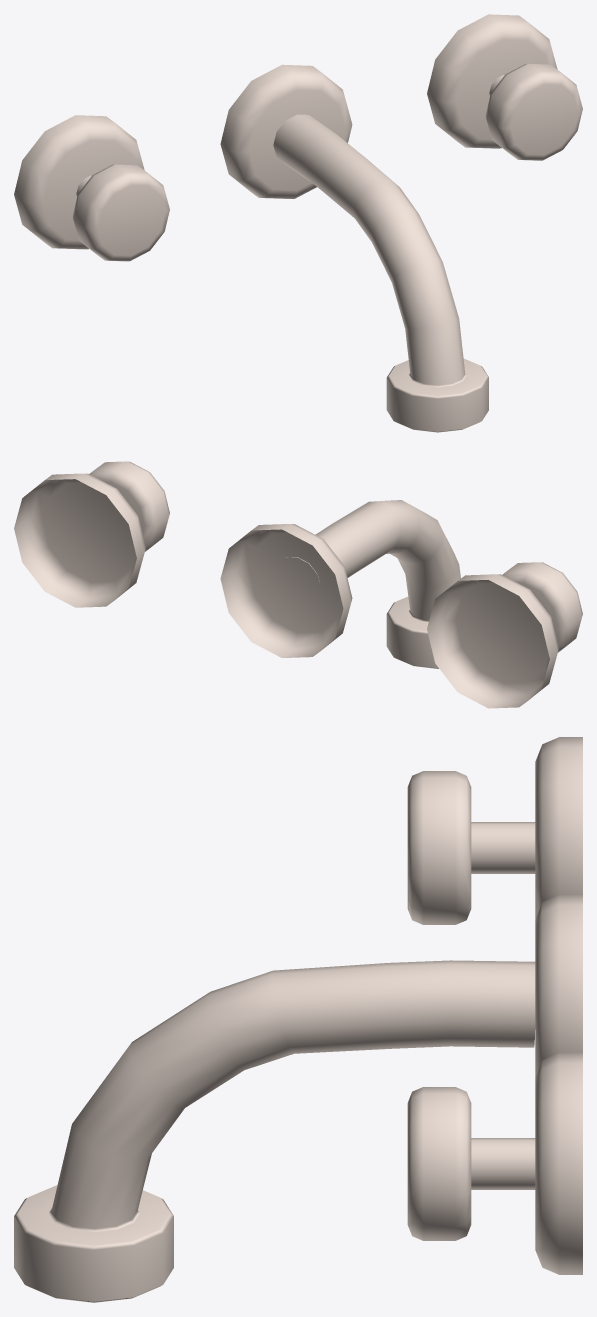
Rendered from Faucet_2.glb.
3 renders of one model, top to bottom at view 1: azimuth 30°, elevation 25°; view 2: azimuth 150°, elevation 25°; view 3: azimuth 270°, elevation 25°, orthographic. The views are drawn at different scales.
Visible parts, largest first — view 1: Faucet_2; view 2: Faucet_2; view 3: Faucet_2.
Boxes of the visible parts, x1,y1,x2,y2 form: Faucet_2: (14, 14, 582, 432); Faucet_2: (14, 461, 582, 708); Faucet_2: (14, 737, 582, 1302).
Bounding box in the file's own units: 0.7227 × 0.3006 × 0.4238.
1 material, 1 textured.
